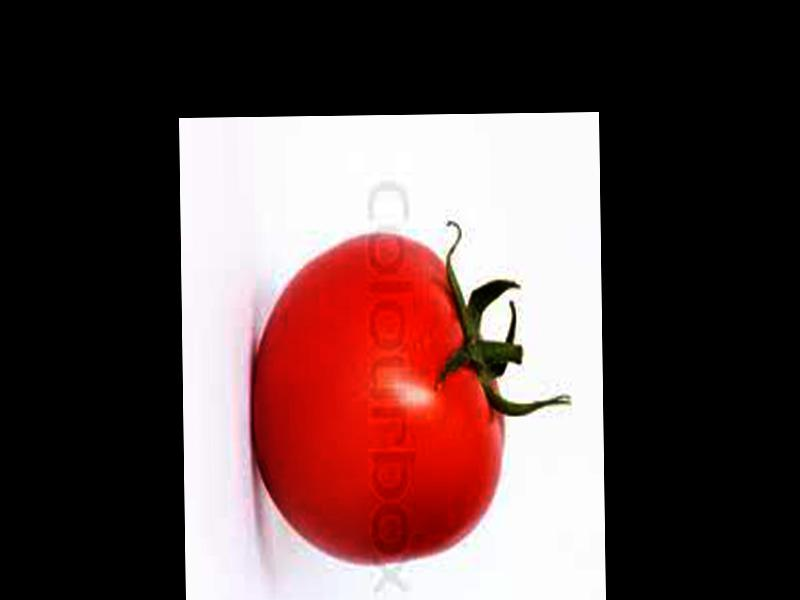Tomato: (253, 235, 506, 565)
